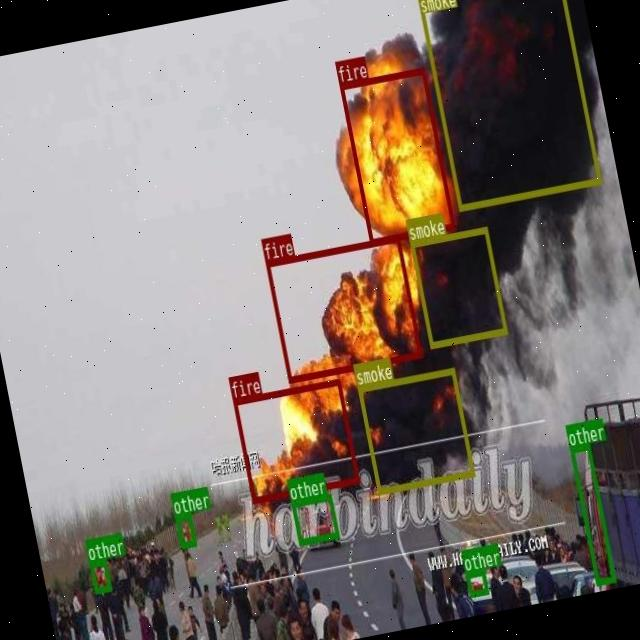fire: (266, 236, 422, 382), (339, 67, 455, 245), (232, 378, 360, 504)
smoke: (416, 0, 601, 210), (358, 366, 474, 494), (409, 226, 506, 348)
